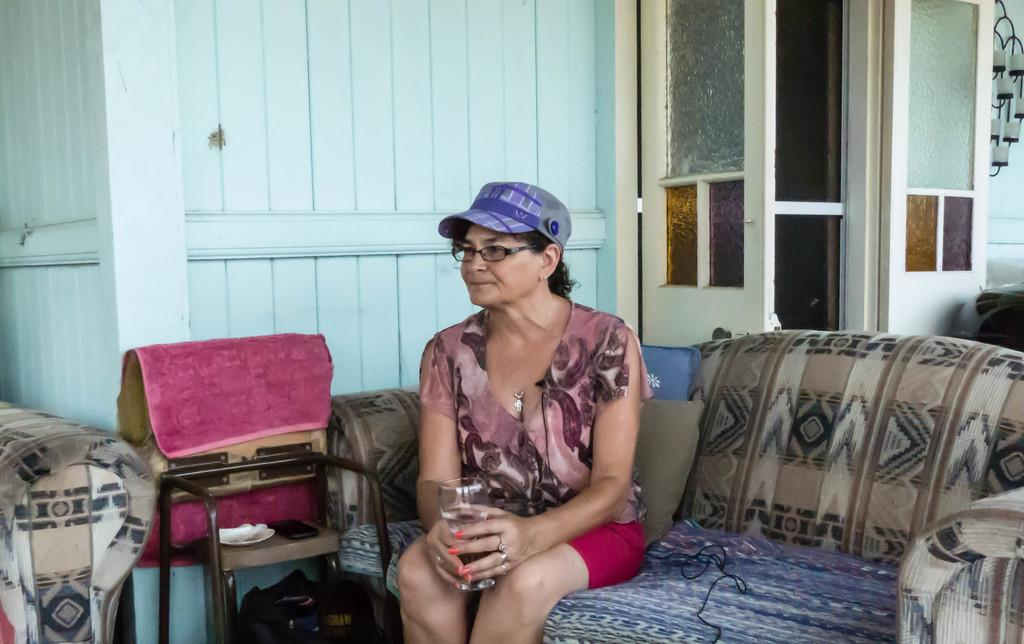Hat: (435, 177, 577, 260)
